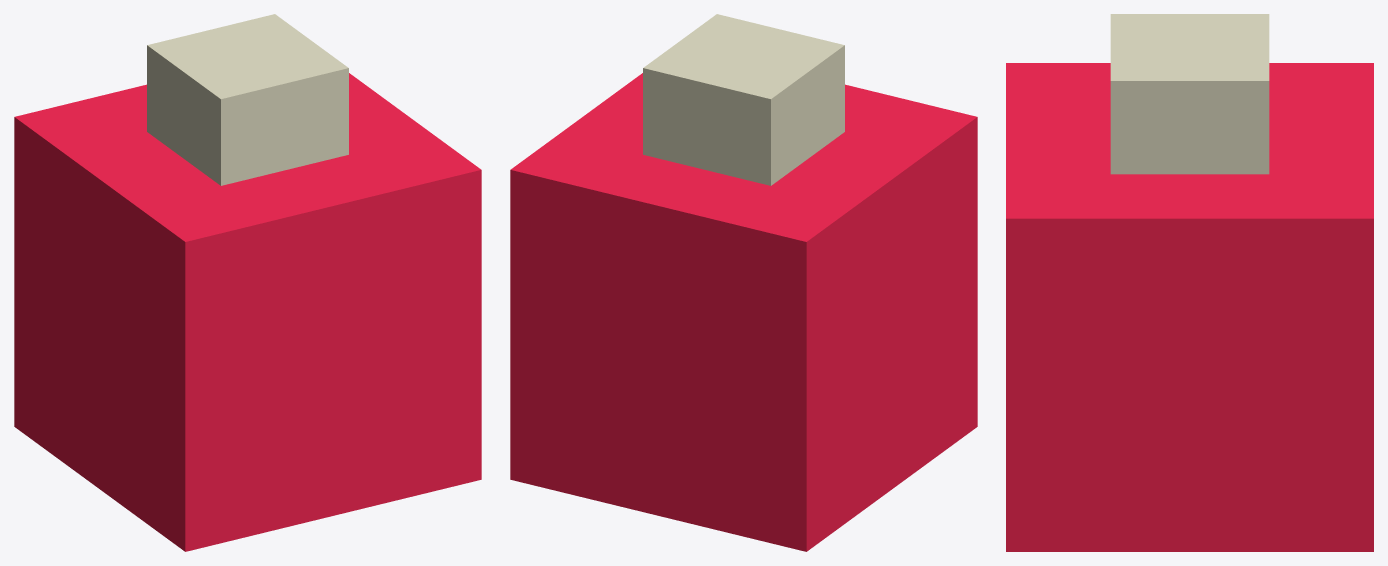
File: Cactus_fruit.fbx
3 views of the same model, side by side, from view 1: azimuth 30°, elevation 25°; view 2: azimuth 150°, elevation 25°; view 3: azimuth 270°, elevation 25° (orthographic). The views are drawn at different scales.
Visible parts, largest first — view 1: Cactus_fruit; view 2: Cactus_fruit; view 3: Cactus_fruit.
Part boxes in pixels (bbox=[...]): Cactus_fruit: bbox=[14, 14, 481, 551]; Cactus_fruit: bbox=[510, 14, 977, 551]; Cactus_fruit: bbox=[1006, 14, 1373, 551].
Bounding box in the file's own units: 0.14 × 0.1792 × 0.14.
